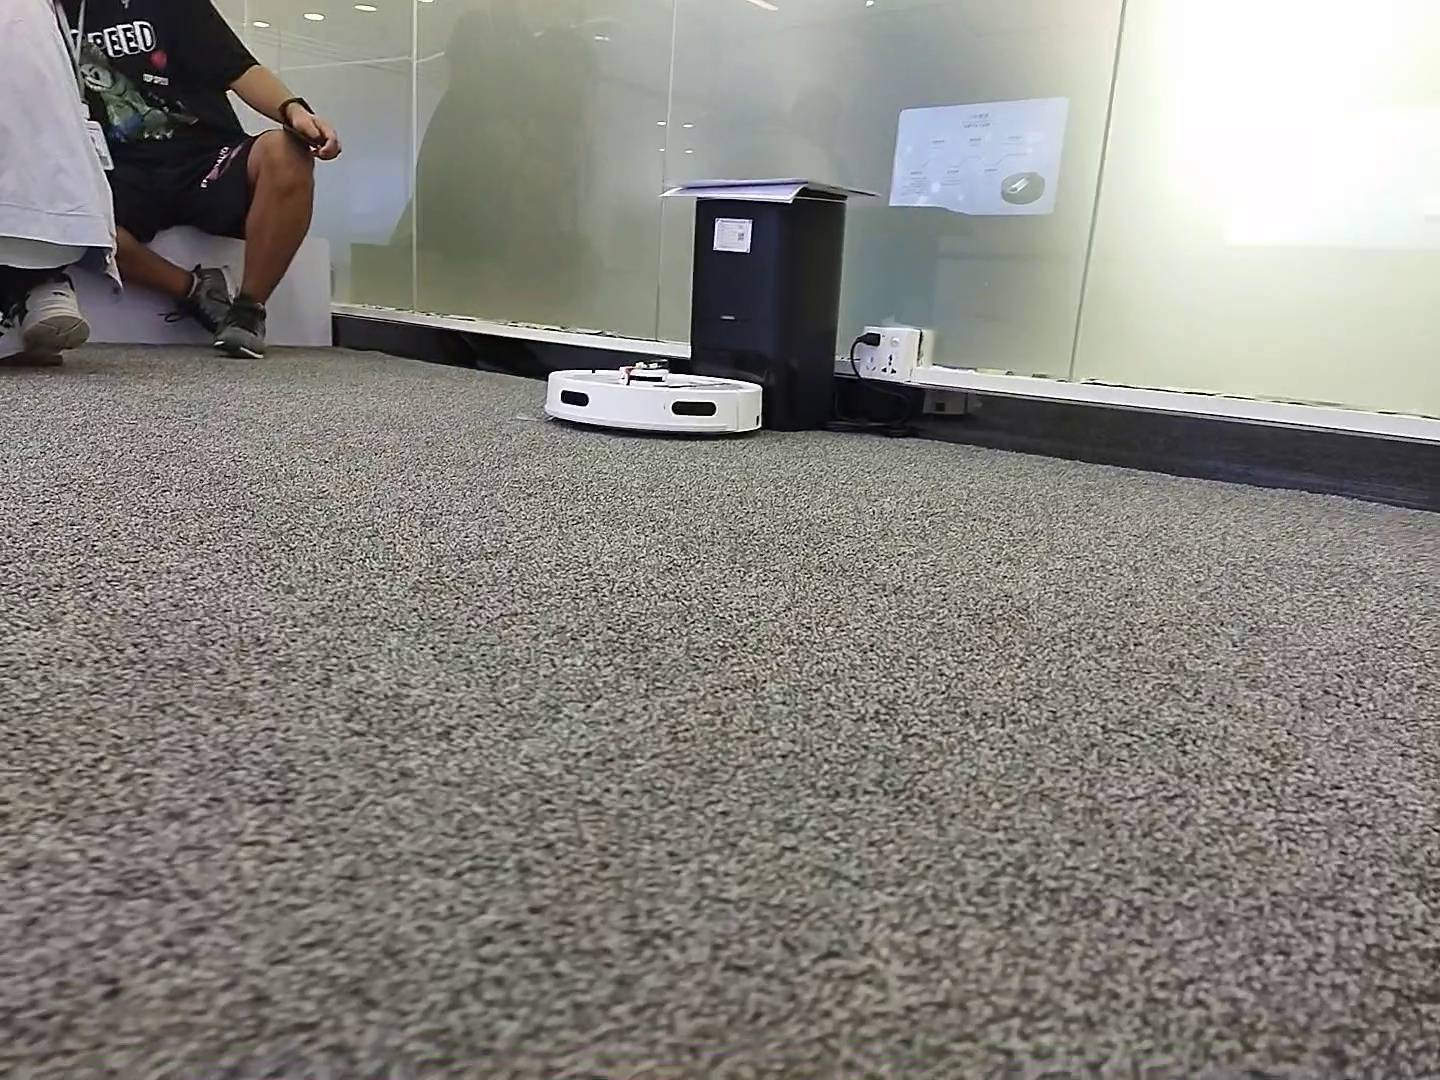dust collecting barrel: (691, 192, 852, 437)
